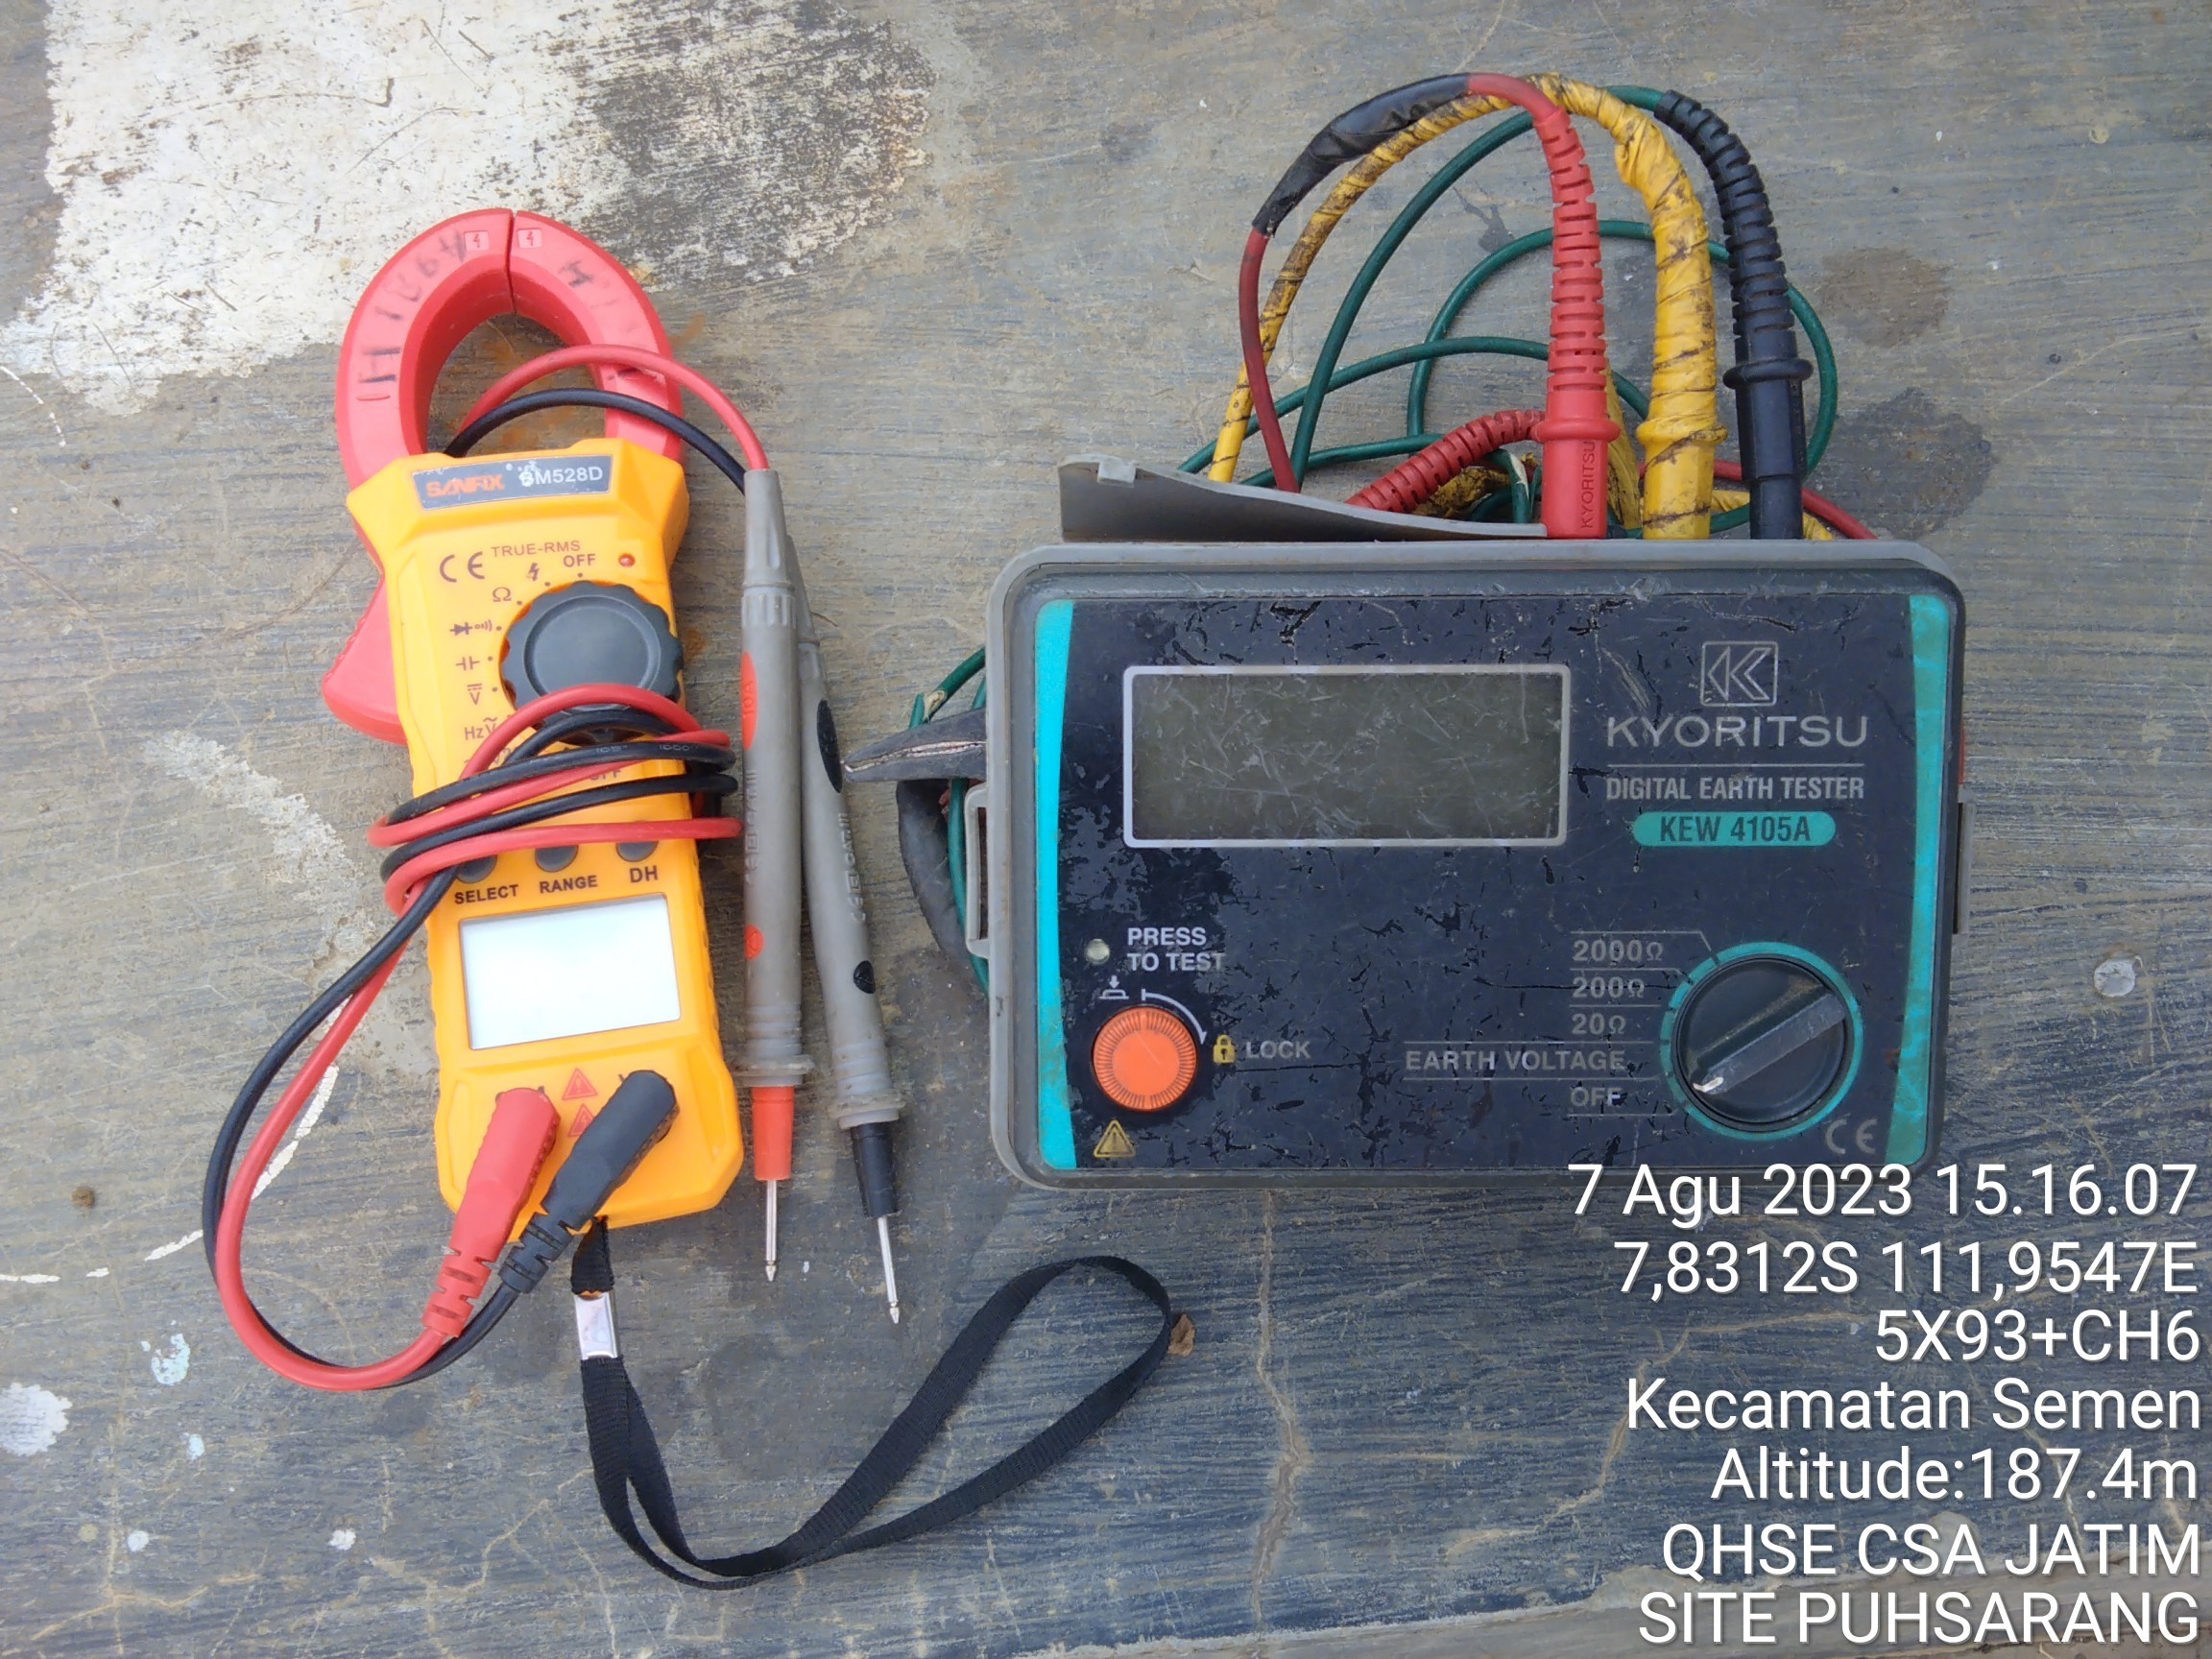EARTH_GROUNDING_TESTER: (974, 441, 1989, 1169)
TANG_AMPERE: (317, 197, 779, 1237)
